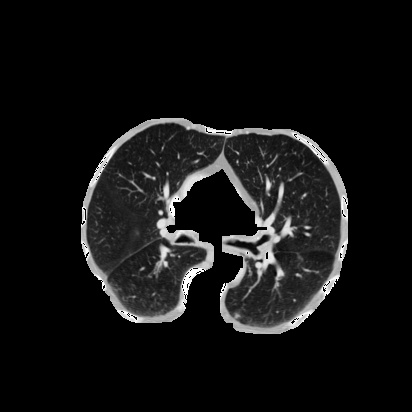PN: (235, 313, 239, 317)
